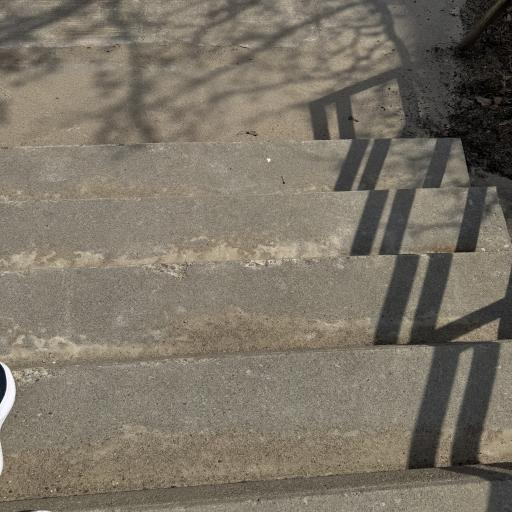Stairs: (0, 139, 512, 511), (0, 463, 512, 512)
